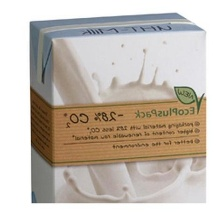carton: (28, 7, 209, 204)
